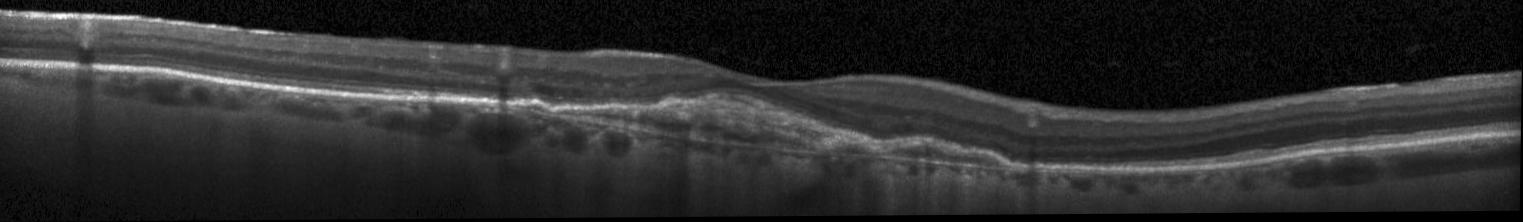subretinal_hyperreflective_material: (515, 92, 1012, 169)
